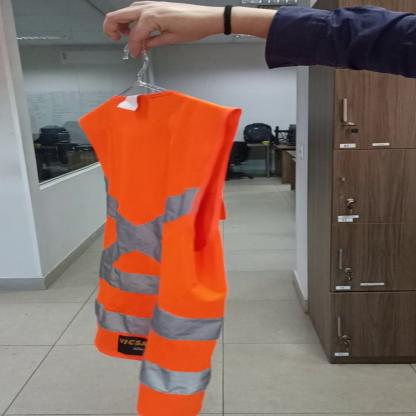colete: (75, 92, 243, 416)
